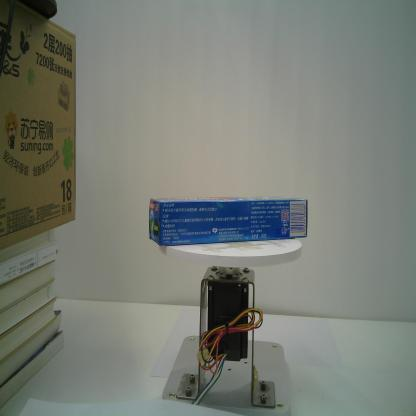Personal Hygiene: (148, 198, 309, 245)
